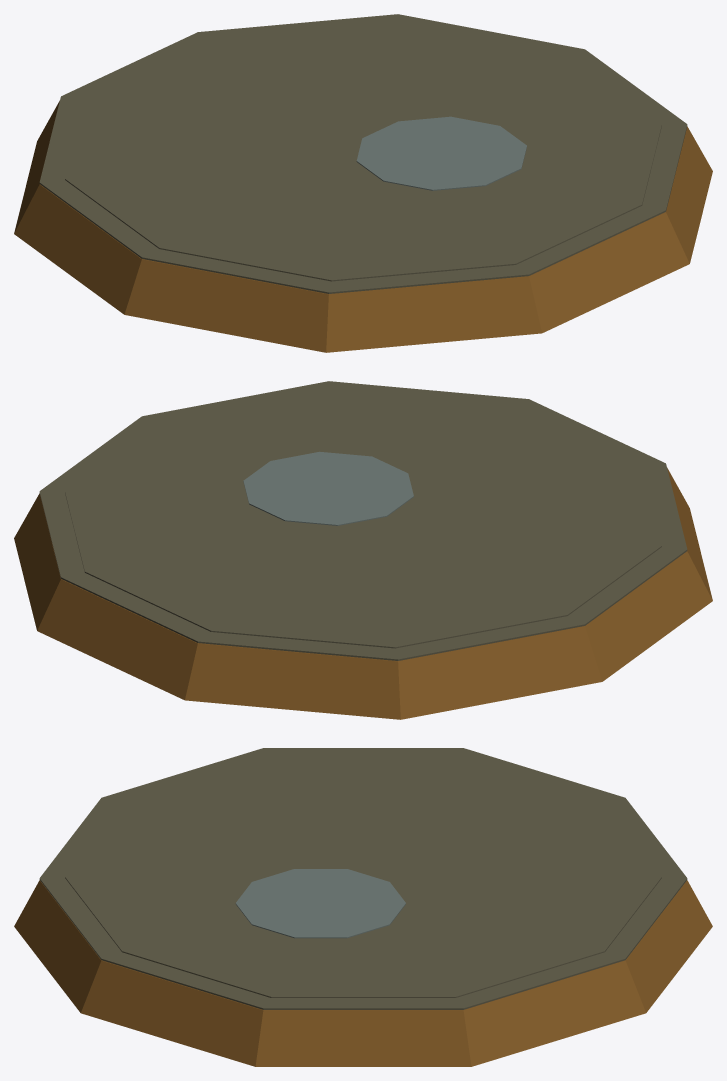
File: SM_Balsa_v2_Vacia_LOD1.fbx
The picture shows the model from 3 angles, top to bottom: view 1: azimuth 30°, elevation 25°; view 2: azimuth 150°, elevation 25°; view 3: azimuth 270°, elevation 25°; orthographic projection. The views are drawn at different scales.
Visible parts, largest first — view 1: SM_viveres_nules_v17_LOD1; view 2: SM_viveres_nules_v17_LOD1; view 3: SM_viveres_nules_v17_LOD1.
Part boxes in pixels (x1,y1,x2,y2): SM_viveres_nules_v17_LOD1: [14, 14, 712, 352]; SM_viveres_nules_v17_LOD1: [14, 381, 712, 719]; SM_viveres_nules_v17_LOD1: [14, 748, 712, 1066].
Bounding box in the file's own units: 15.6 × 1.3 × 16.4.
